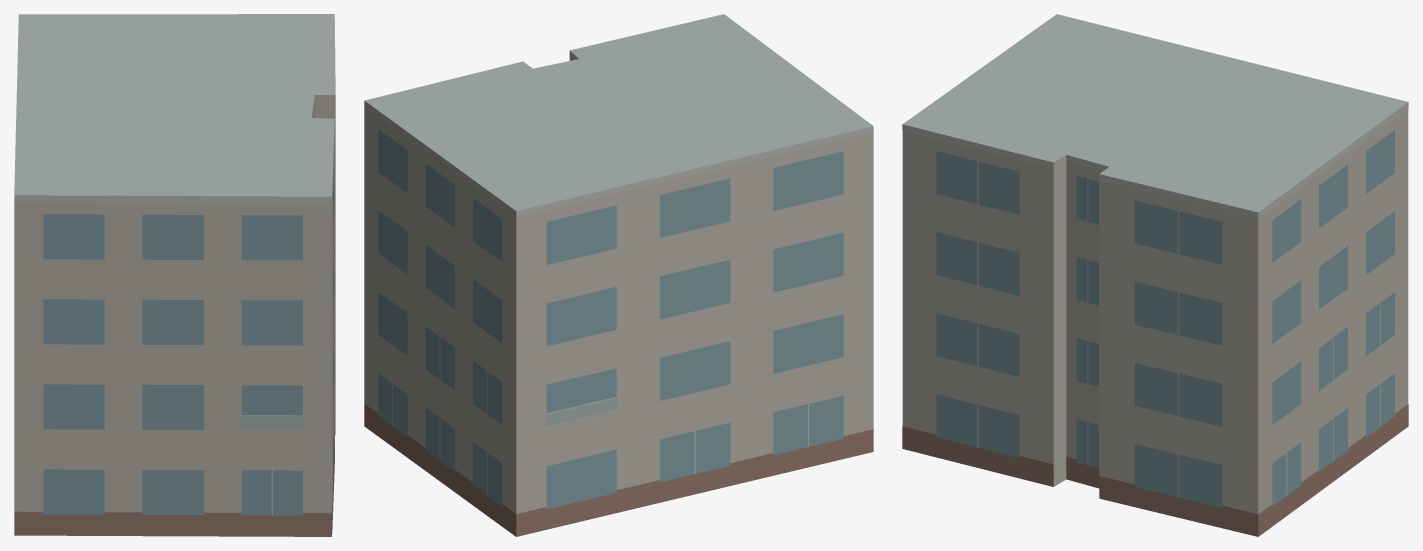
Rendered from survey-upis-32722099.glb.
3 renders of one model, left to right at view 1: azimuth 30°, elevation 25°; view 2: azimuth 150°, elevation 25°; view 3: azimuth 270°, elevation 25°, orthographic. The views are drawn at different scales.
Visible parts, largest first — view 1: survey-upis-32722099.tmp; view 2: survey-upis-32722099.tmp; view 3: survey-upis-32722099.tmp.
Part boxes in pixels (box(x1,y1,x2,y2)): survey-upis-32722099.tmp: box(14, 14, 335, 536); survey-upis-32722099.tmp: box(364, 14, 873, 536); survey-upis-32722099.tmp: box(902, 14, 1408, 536).
Size of the model in its own units: 16.79 by 12.8 by 18.1.
